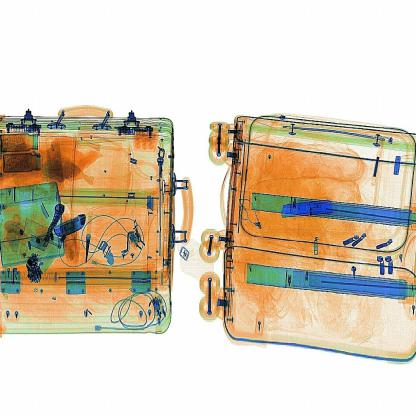pliers: (272, 188, 338, 224)
